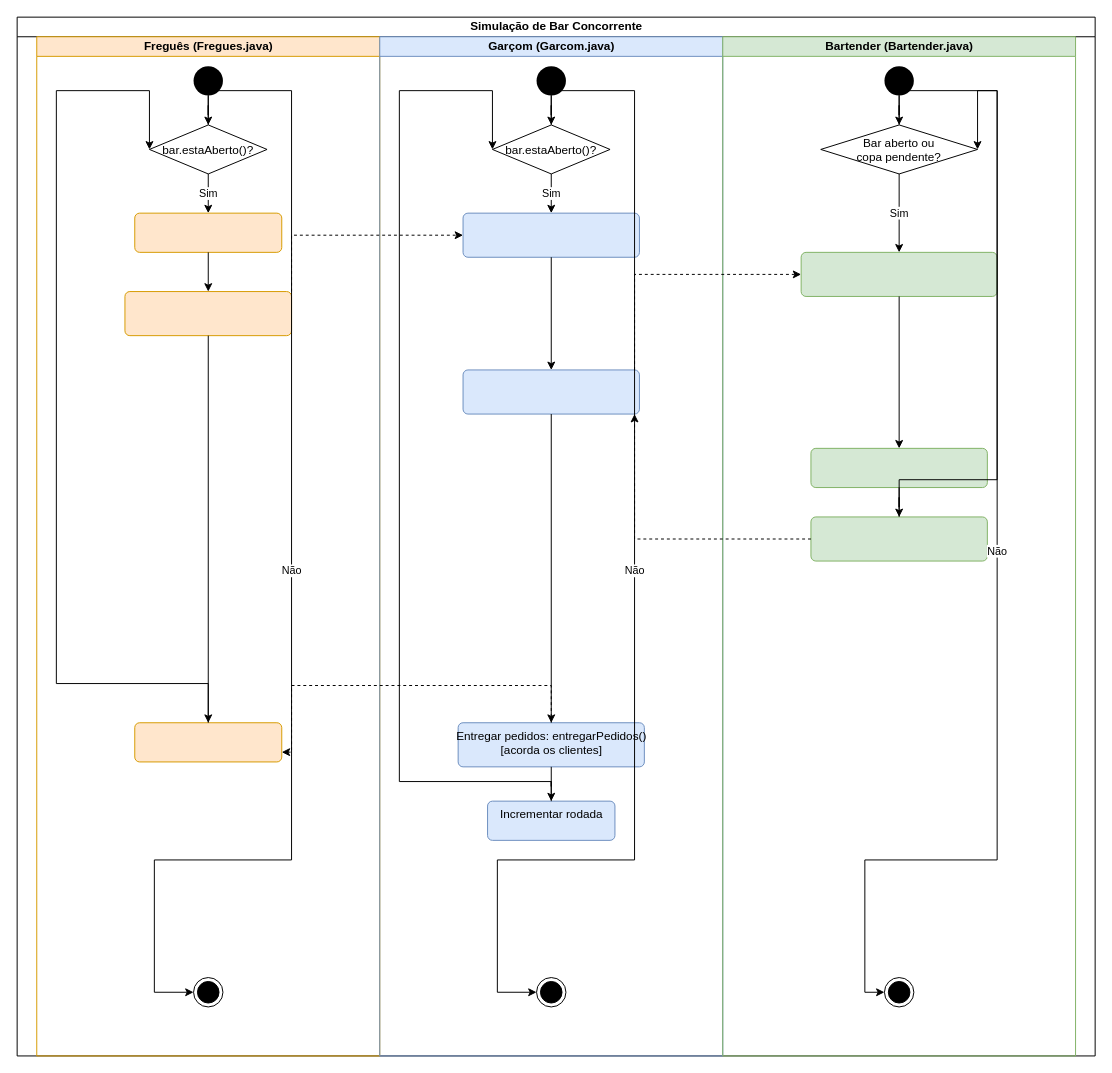
Some shapes in this 1112 by 1073 pixel diagram are drawn without their labels. Here are the shapes that lost their labels. From the top down, the centre of each, then its label:
At point 208,232: "Atraso para pedir (sleep)".
At point 550,234: "Coletar pedidos: coletarPedidos() [bloqueia se fila vazia]".
At point 898,273: "Buscar trabalho: pegarTrabalhoCopa() [bloqueia se fila vazia]".
At point 208,313: "Fazer pedido: fazerPedido() [bloqueia no monitor]".
At point 550,391: "Enviar à copa: pedirCopa() [bloqueia aguardando preparo]".
At point 898,467: "Preparar bebida (sleep 1000ms)".
At point 898,538: "Finalizar copa: finalizarCopa() [acorda o garçom]".
At point 208,742: "Consumir pedido (sleep)".
